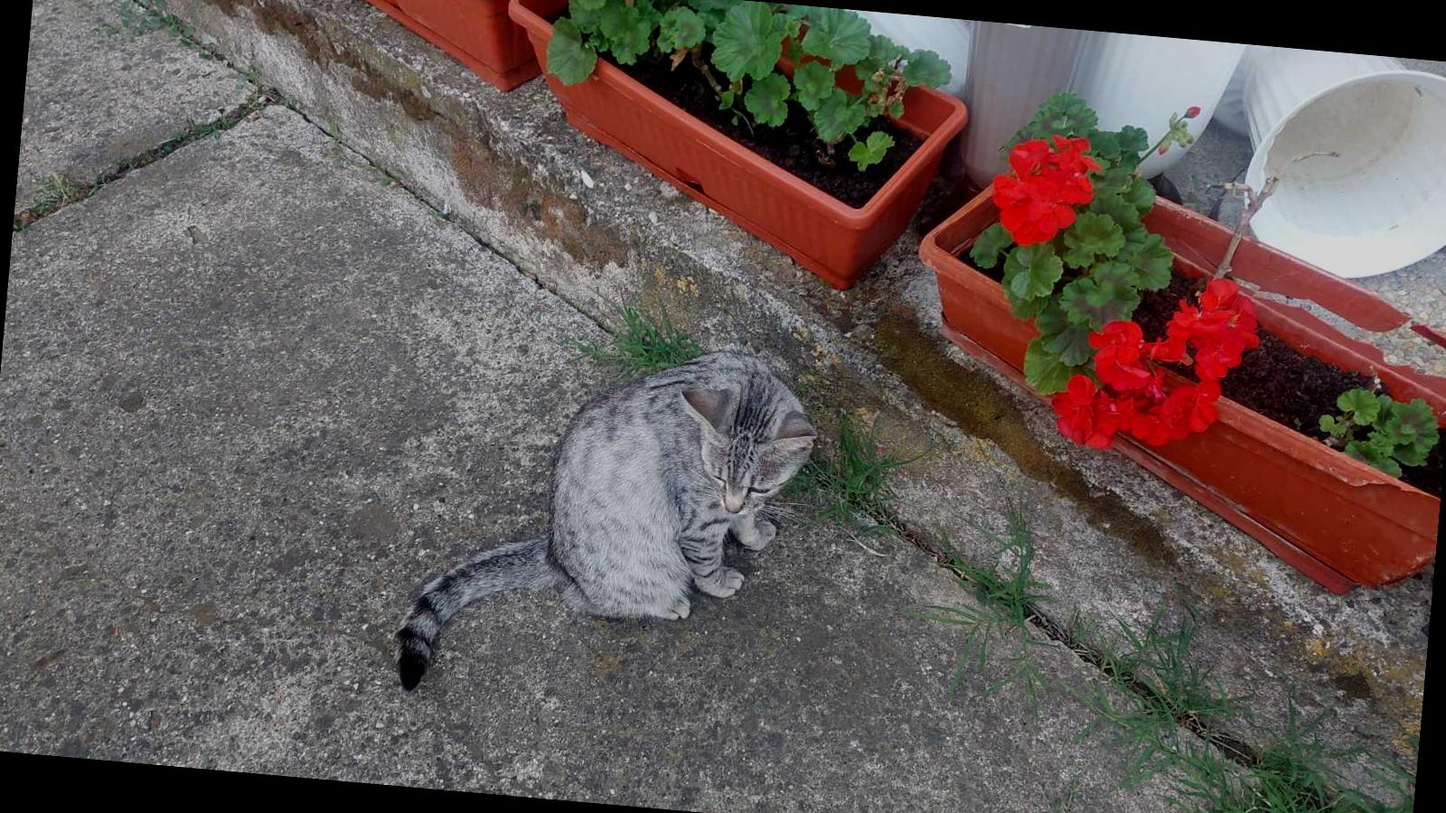macka: (393, 327, 823, 729)
